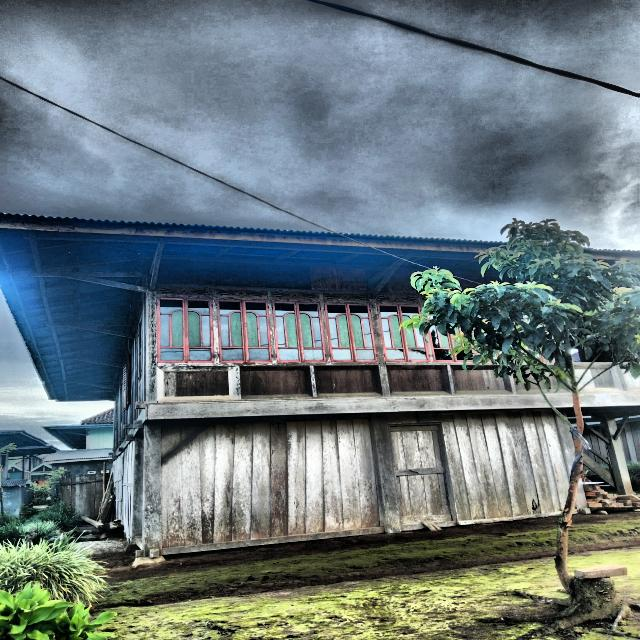column: (369, 413, 401, 533), (143, 420, 163, 556), (131, 435, 143, 544)
door: (390, 426, 452, 525)
ornamen: (157, 366, 237, 401), (239, 366, 313, 398), (314, 365, 383, 397), (386, 365, 452, 397), (451, 365, 513, 394)
roof: (0, 213, 496, 401), (41, 407, 114, 450), (42, 448, 113, 464)
wall: (162, 409, 569, 547), (157, 263, 383, 402), (113, 295, 146, 449), (86, 427, 114, 449)
window: (157, 297, 215, 363), (217, 299, 273, 362), (272, 301, 327, 363), (324, 303, 379, 362), (377, 304, 431, 362)
